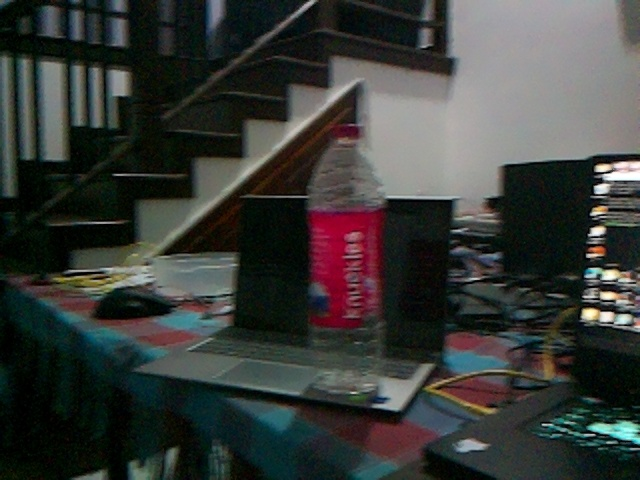bottle: (303, 122, 389, 396)
